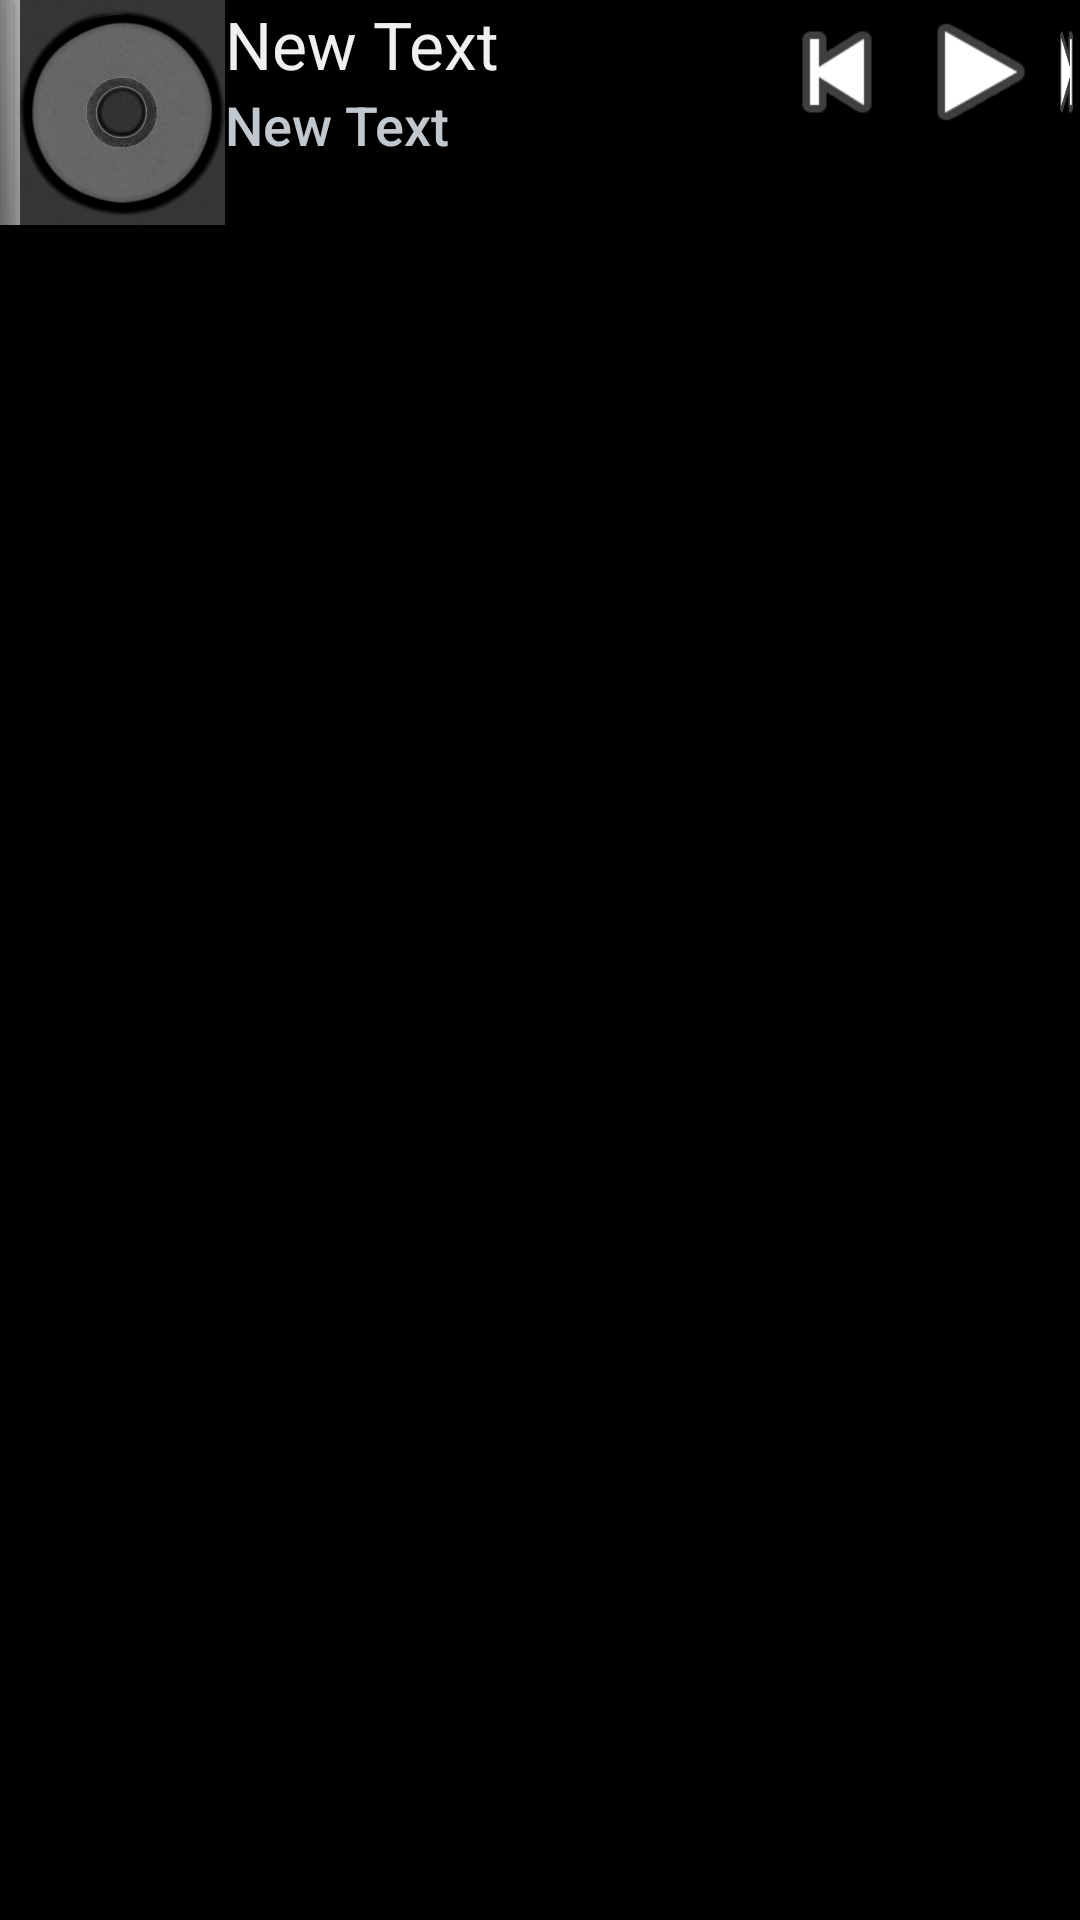

Icons on this 1080w x 1920h Android screen, each with the point to tap as [x,y]:
Example Album: [112,112]
play: [981,72]
previous: [837,72]
